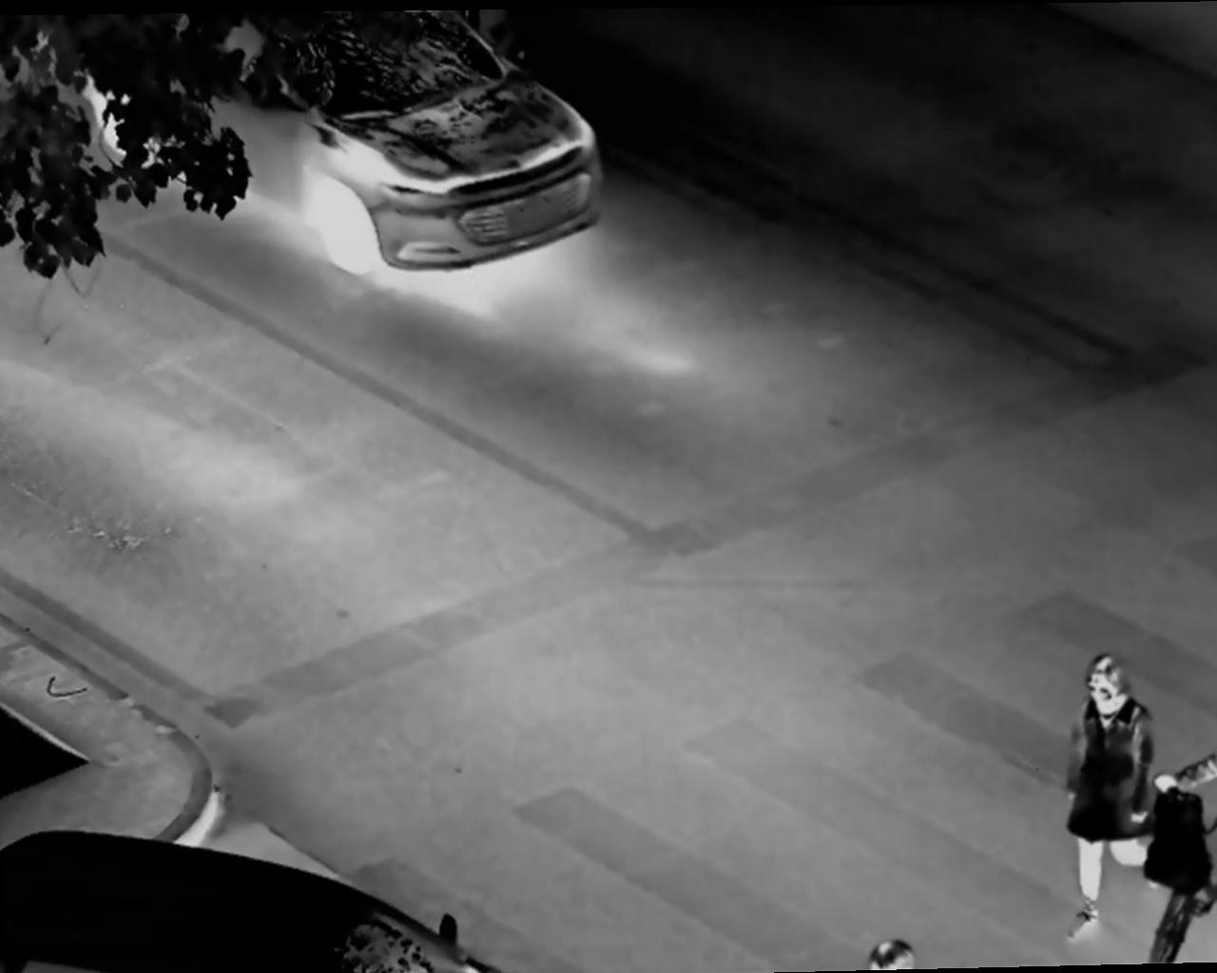person: (1060, 645, 1158, 927)
